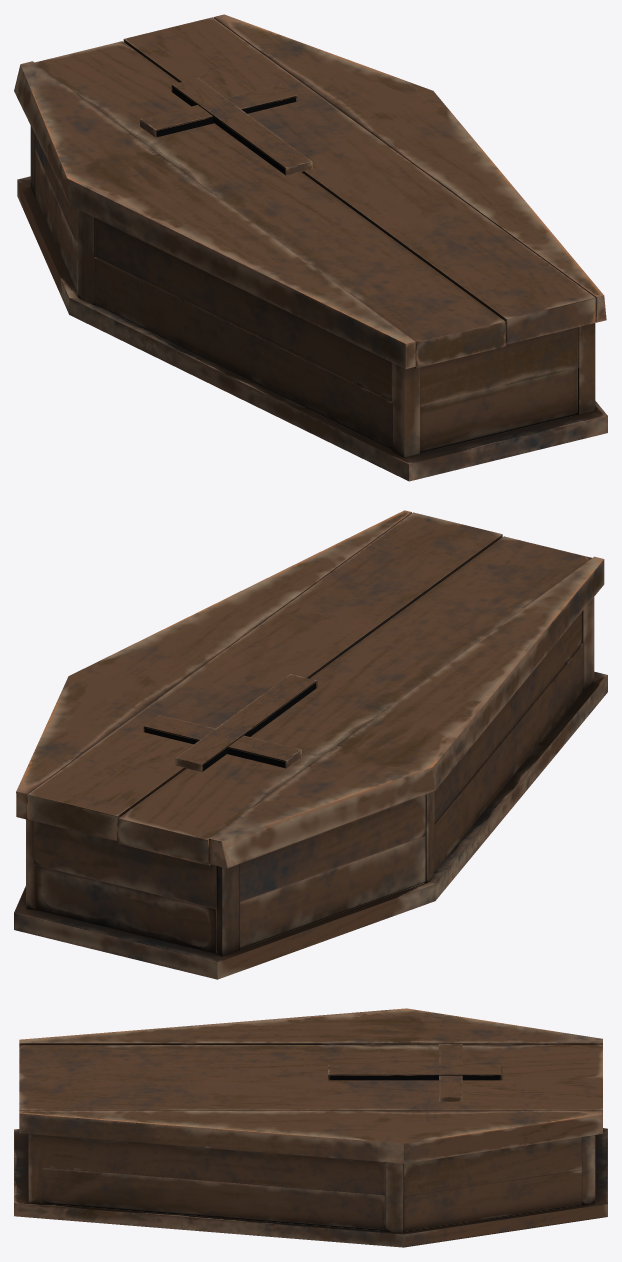
Rendered from SM_Coffin_Closed.fbx.
3 renders of one model, top to bottom at view 1: azimuth 30°, elevation 25°; view 2: azimuth 150°, elevation 25°; view 3: azimuth 270°, elevation 25°, orthographic. The views are drawn at different scales.
Parts seen in each view (by area): view 1: SM_Coffin_Closed_LP; view 2: SM_Coffin_Closed_LP; view 3: SM_Coffin_Closed_LP.
Part boxes in pixels (left/top/right/bottom): SM_Coffin_Closed_LP: left=14, top=14, right=607, bottom=481; SM_Coffin_Closed_LP: left=14, top=510, right=607, bottom=979; SM_Coffin_Closed_LP: left=14, top=1008, right=607, bottom=1247.
Bounding box in the file's own units: 1.14 × 0.4217 × 2.09.
